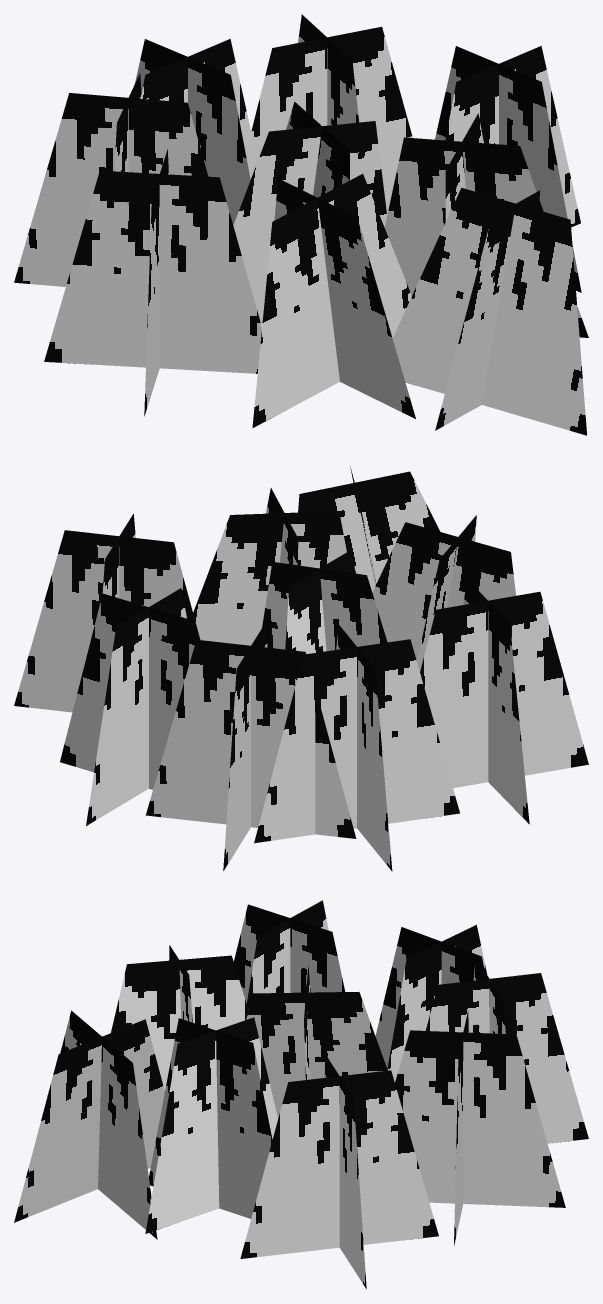
The model's file is grass.fbx.
3 renders of one model, top to bottom at view 1: azimuth 30°, elevation 25°; view 2: azimuth 150°, elevation 25°; view 3: azimuth 270°, elevation 25°, orthographic. The views are drawn at different scales.
Parts seen in each view (by area): view 1: Grass; view 2: Grass; view 3: Grass.
Boxes of the visible parts, left/top/right/bottom form: Grass: left=14, top=14, right=588, bottom=435; Grass: left=14, top=466, right=588, bottom=871; Grass: left=14, top=900, right=588, bottom=1288.
Size of the model in its own units: 1459 by 584 by 1512.
